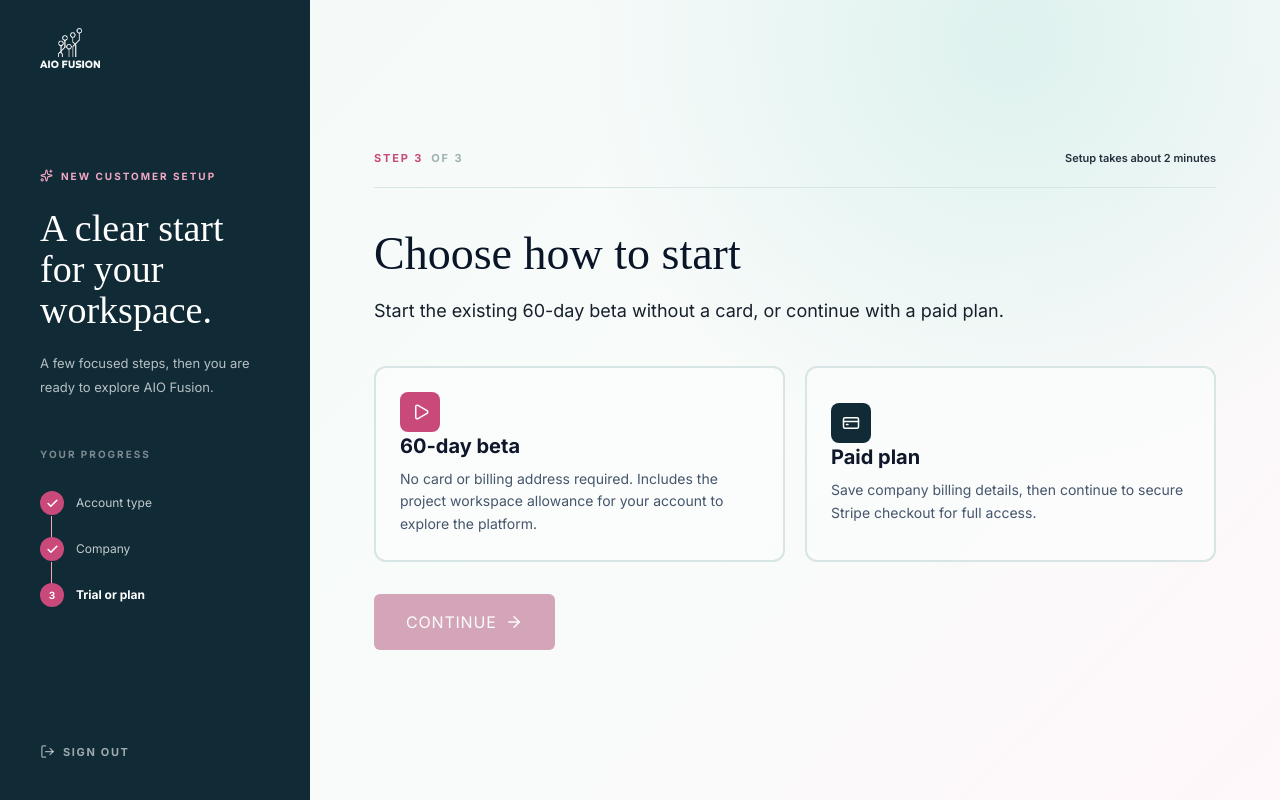
Test case: GuidedOnboardingPage › shows billing in progress only after choosing a paid plan
This screenshot has width=1280, height=800.
Expected: the heading "Choose how to start" is shown, x1=374 y1=228 x2=741 y2=278
Click the button "Paid plan".
click(851, 423)  # box x1=805 y1=366 x2=1216 y2=562
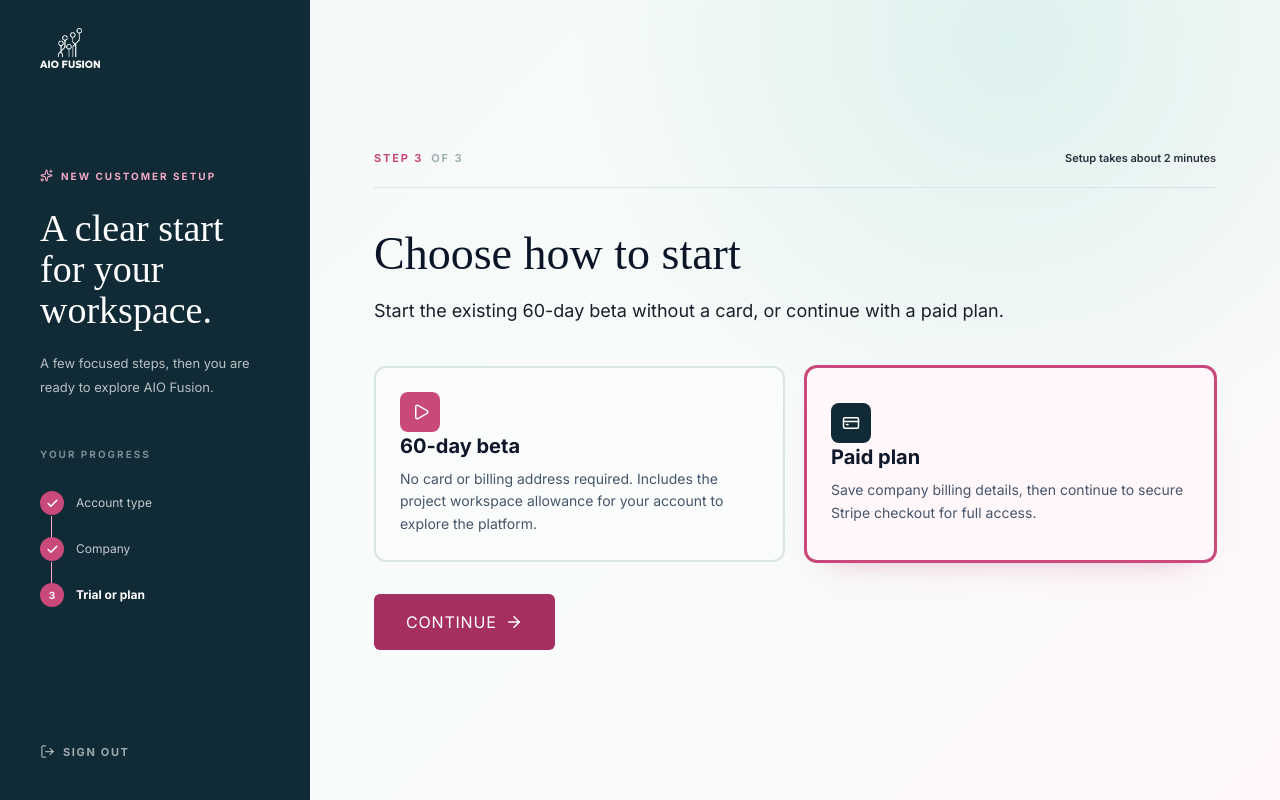
Expected: the button "Paid plan" is pressed, x1=805 y1=366 x2=1216 y2=562
Click the button "Continue".
click(464, 622)  # box x1=374 y1=594 x2=555 y2=650
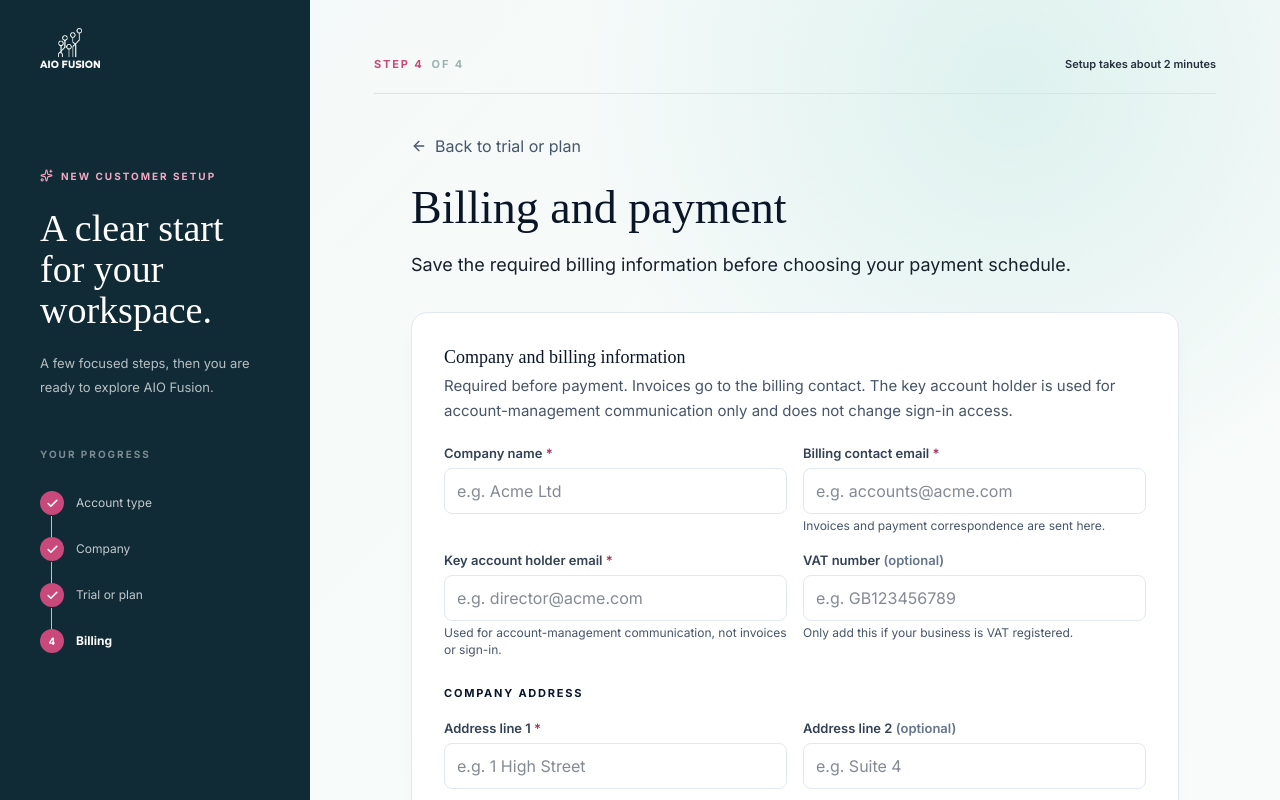
Expected: the heading "Billing and payment" is shown, x1=411 y1=182 x2=787 y2=232
Expected: the text "Billing" is shown, x1=76 y1=632 x2=112 y2=650
